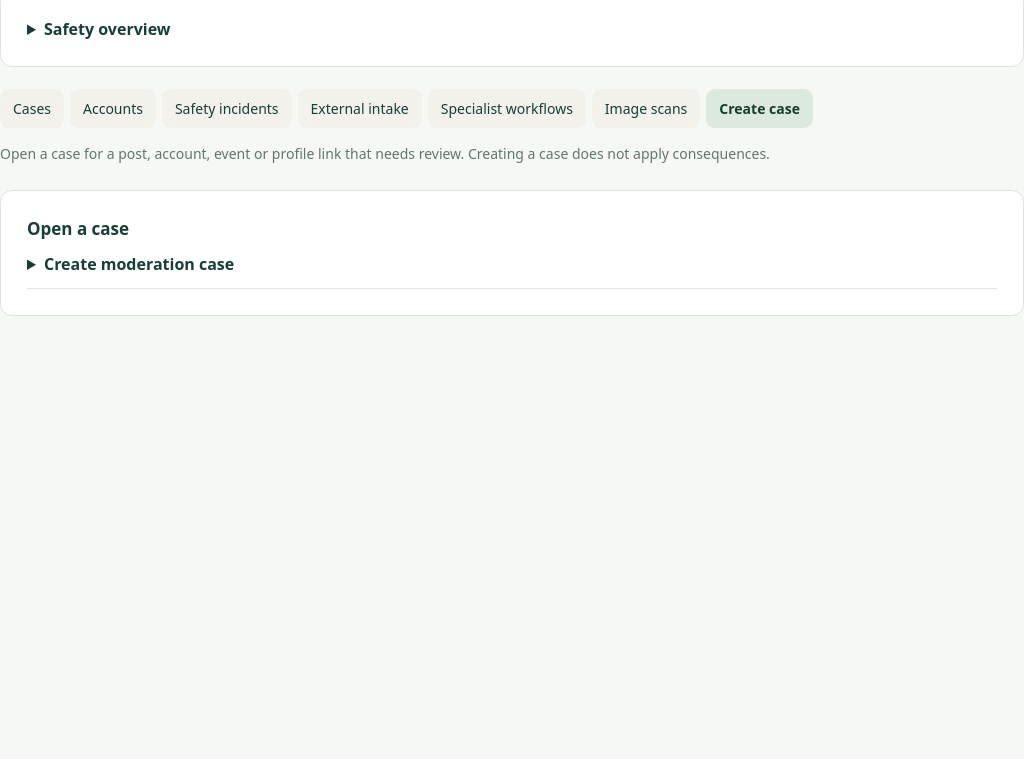
new case confirmation reads back the recorded case before reporting refreshed data
Click the heading "Create moderation case" at (139, 264), box [44,253,234,275]
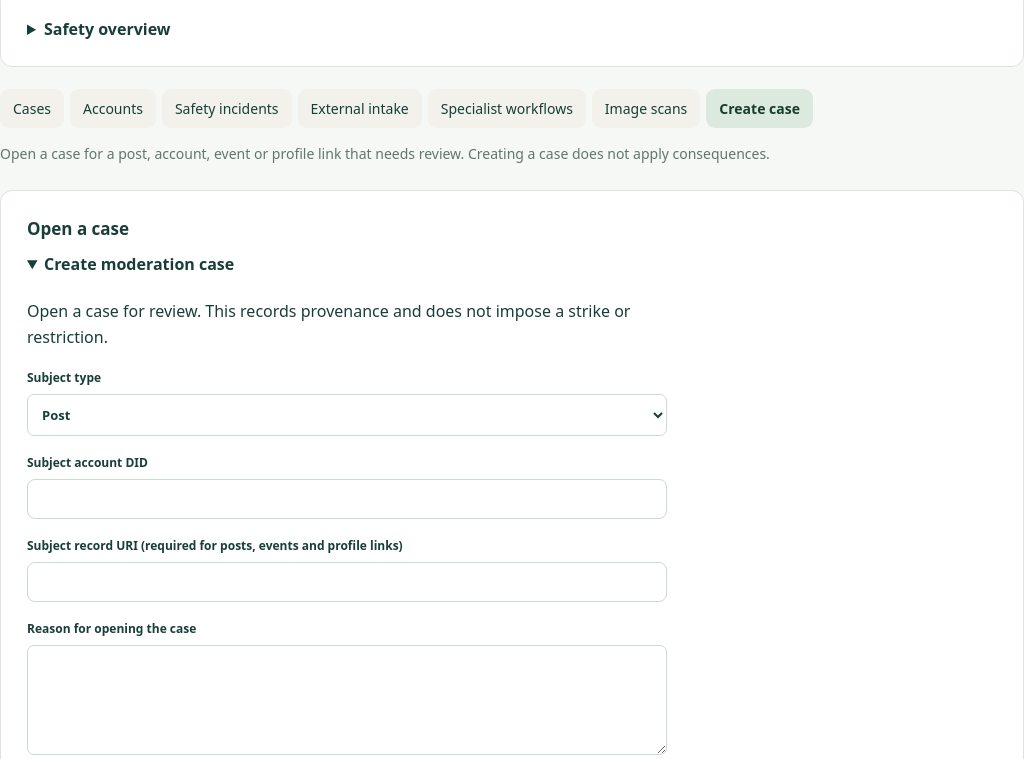
Select "Account" in the dropdown labelled "Subject type" at (347, 415), box [27,394,667,436]
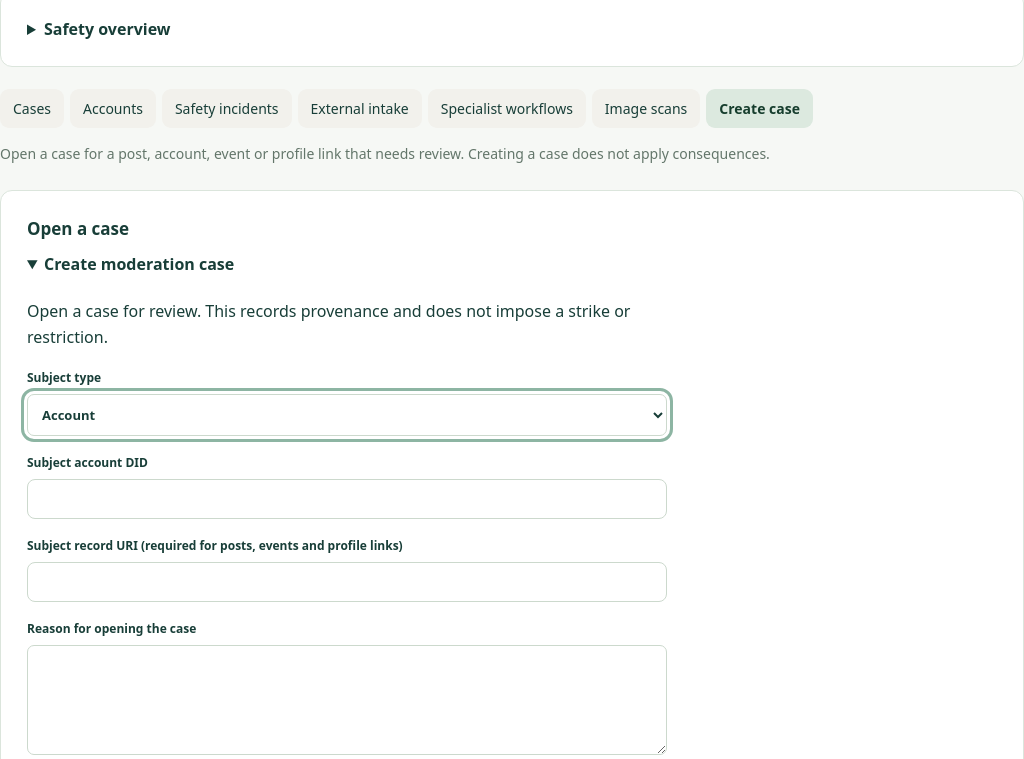
Type "did:example:subject" into the field labelled "Subject account DID" at (347, 499), box [27,479,667,519]
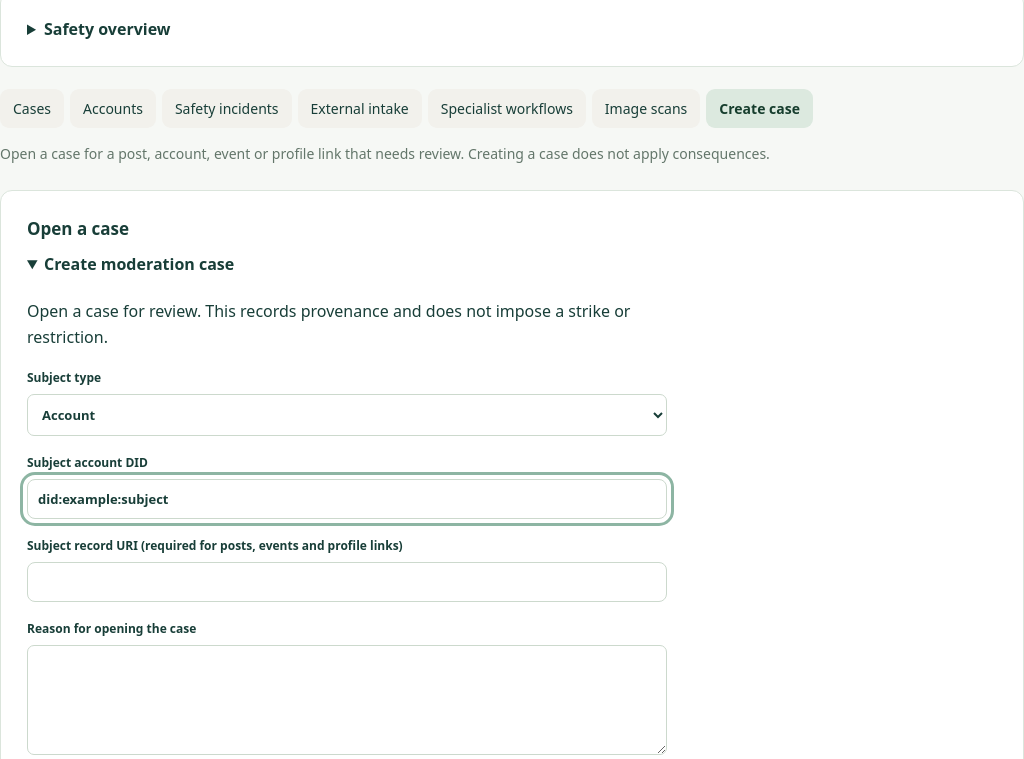
Type "Synthetic case" into the text box labelled "Reason for opening the case" at (347, 700), box [27,645,667,755]
(page scrolled)
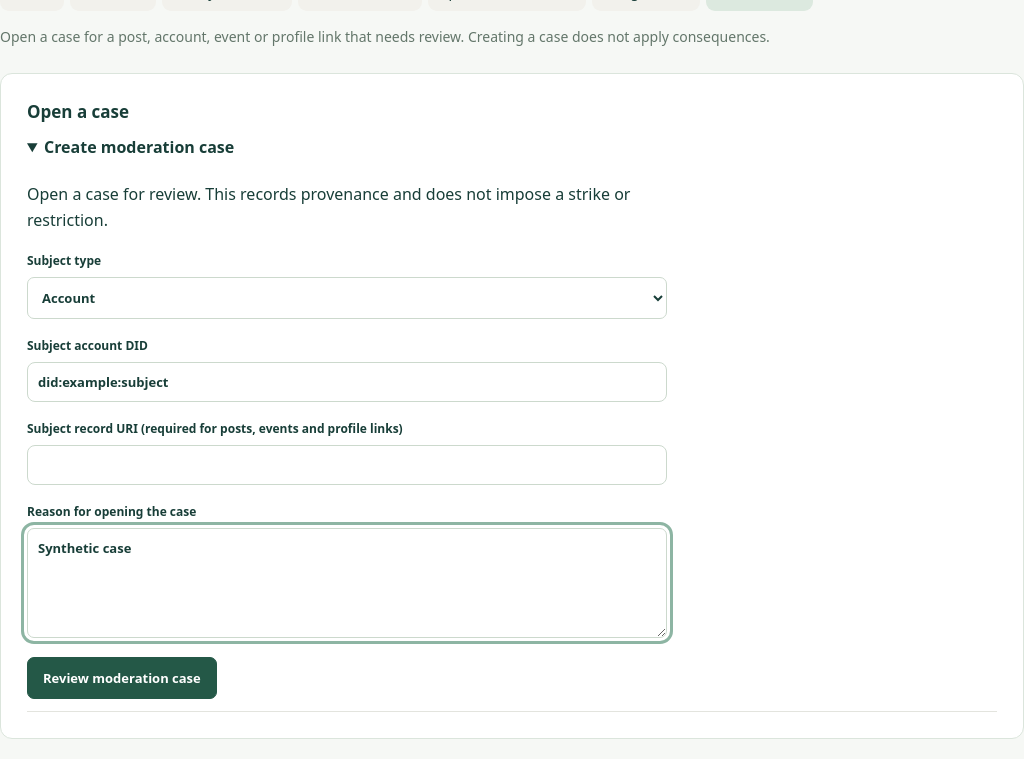
Click the button "Review moderation case" at (122, 678), box [27,657,217,699]
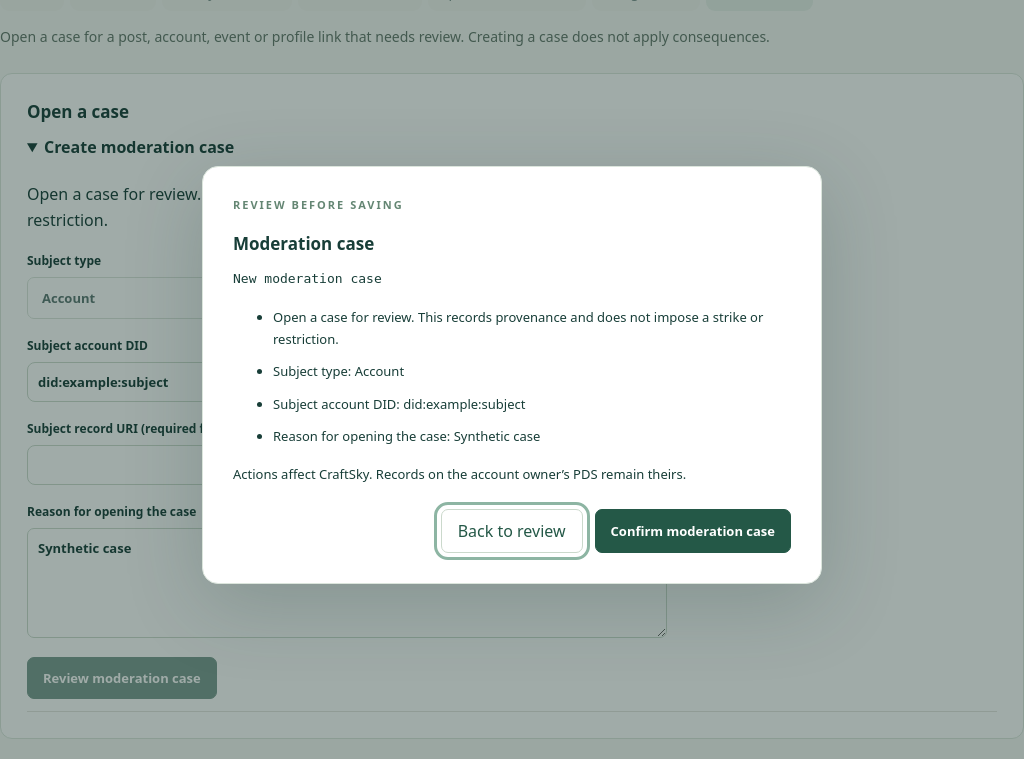
Click the button "Confirm moderation case" at (693, 531), box [595,509,791,553]
(page scrolled)
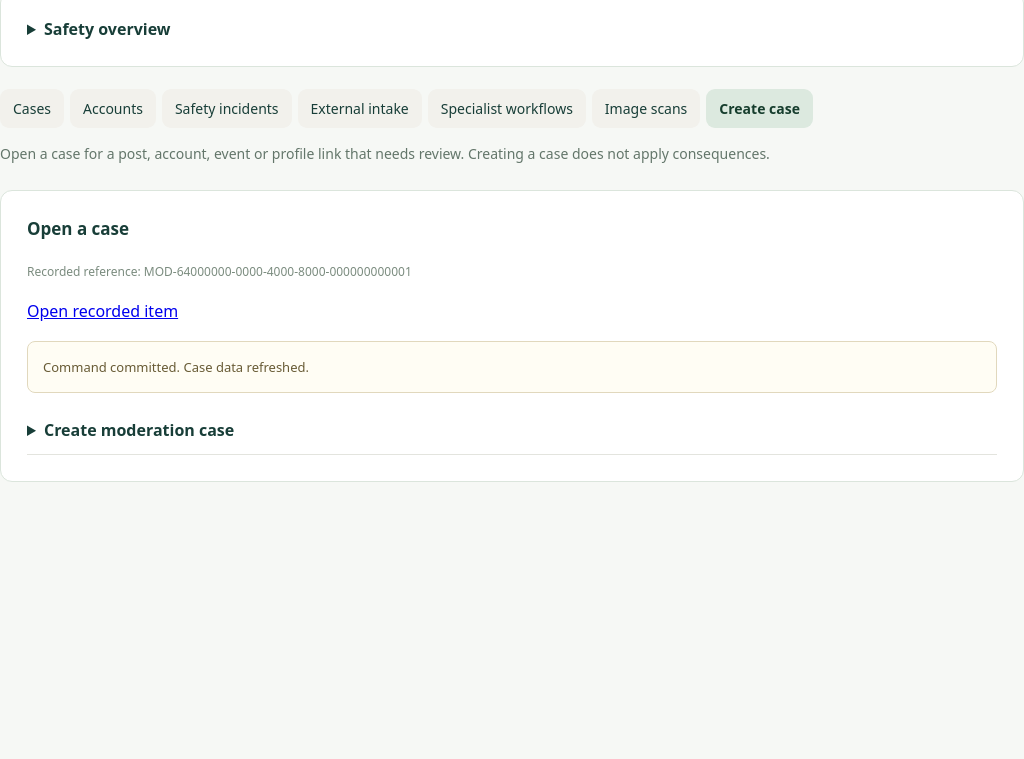
Expected: the text "Command committed. Case data refreshed." is shown, [27,341,997,393]
